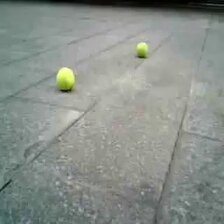tennis: (57, 66, 75, 89), (136, 42, 147, 56)
